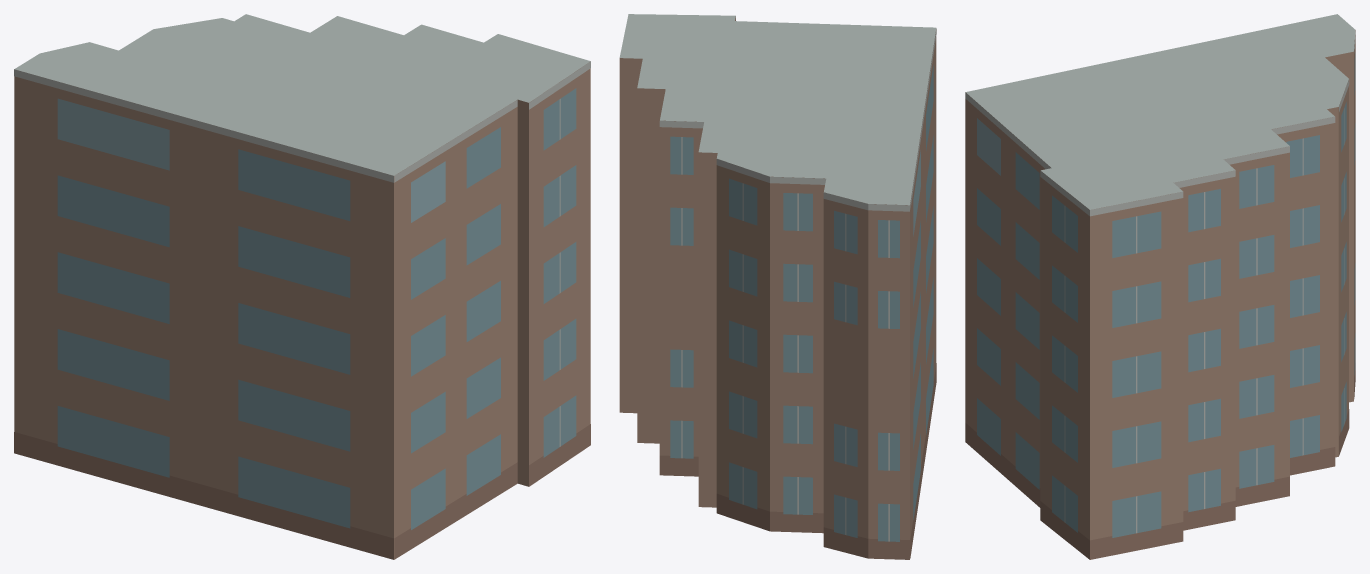
File: survey-upis-32696547.glb
The picture shows the model from 3 angles, left to right: view 1: azimuth 30°, elevation 25°; view 2: azimuth 150°, elevation 25°; view 3: azimuth 270°, elevation 25°; orthographic projection. The views are drawn at different scales.
Visible parts, largest first — view 1: survey-upis-32696547.tmp; view 2: survey-upis-32696547.tmp; view 3: survey-upis-32696547.tmp.
Part boxes in pixels (x1,y1,x2,y2): survey-upis-32696547.tmp: [14, 14, 590, 559]; survey-upis-32696547.tmp: [619, 14, 936, 559]; survey-upis-32696547.tmp: [965, 14, 1355, 559].
Size of the model in its own units: 15.98 by 13.3 by 13.45.
